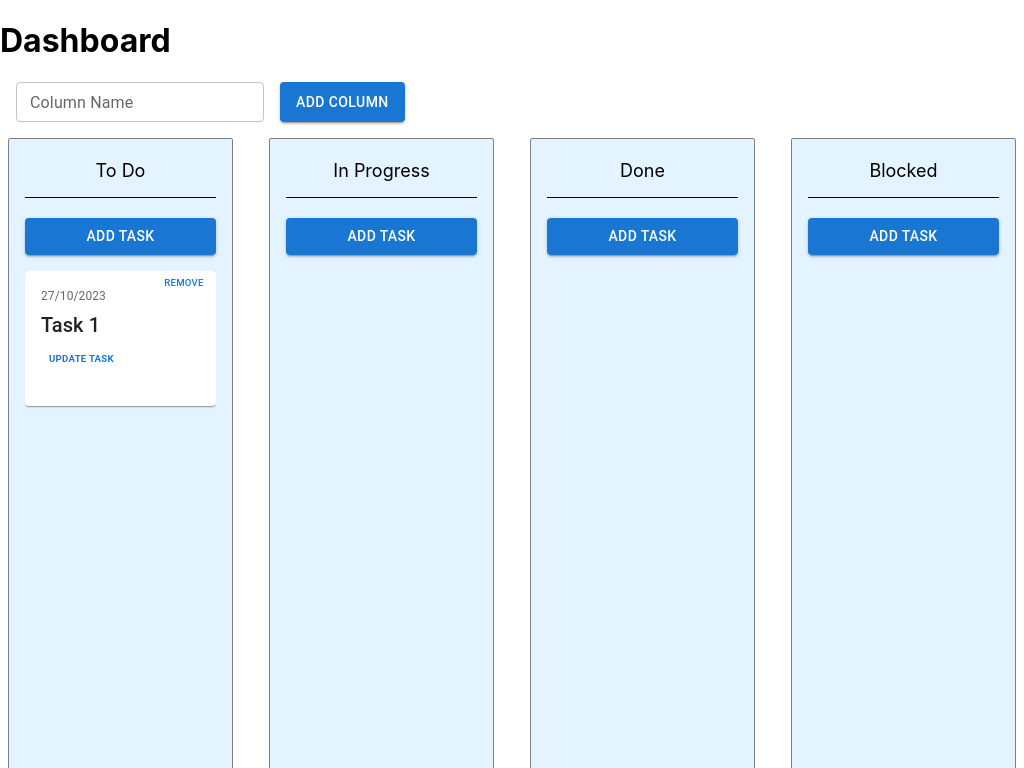
it: Dashboard › opens Add Task modal when a task is clicked
Click the button with test id "add-task-button": {"x": 120, "y": 237} 25,218 -> 216,255
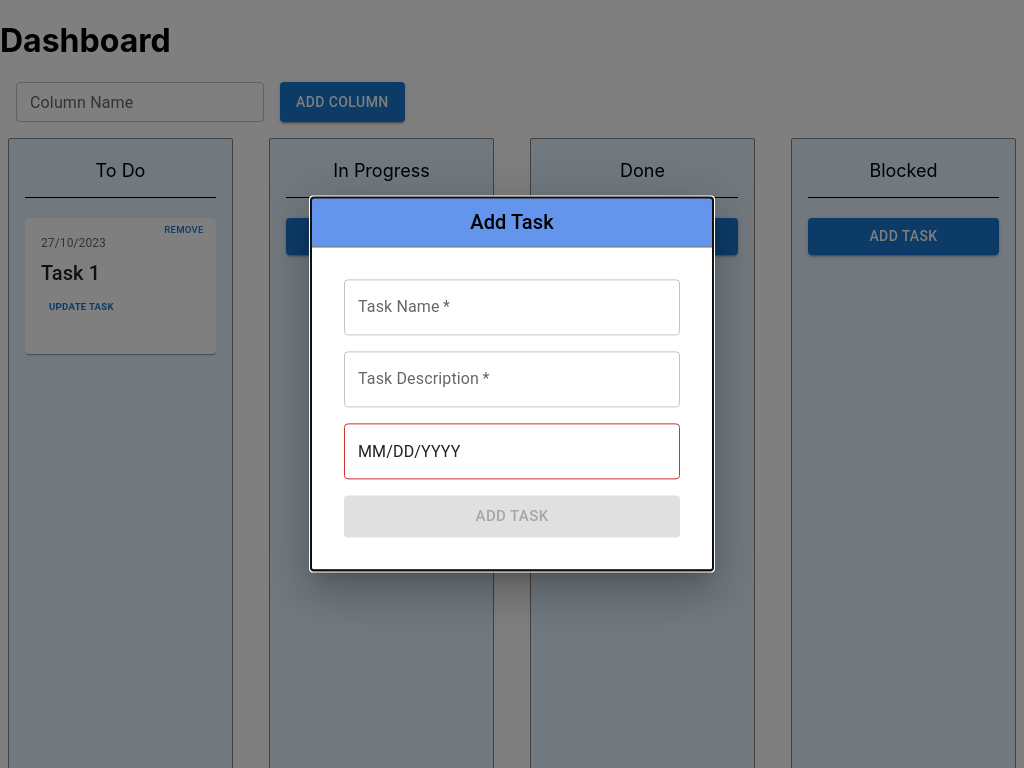
Expected: the button with test id "add-task" is shown, 344,495 -> 680,538
